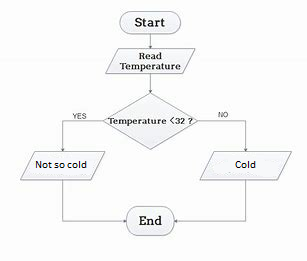arrow: (171, 179, 247, 224), (60, 178, 128, 225), (196, 117, 247, 151), (60, 118, 106, 152), (147, 70, 153, 92), (147, 33, 153, 50)
data: (199, 150, 294, 181), (17, 149, 105, 182), (103, 46, 195, 75)
decision: (103, 90, 199, 148)
terminator: (116, 10, 182, 36), (123, 204, 175, 237)
text: (107, 115, 191, 126), (33, 158, 88, 170), (137, 214, 162, 227), (234, 158, 258, 170), (71, 109, 86, 118), (216, 109, 228, 118)
